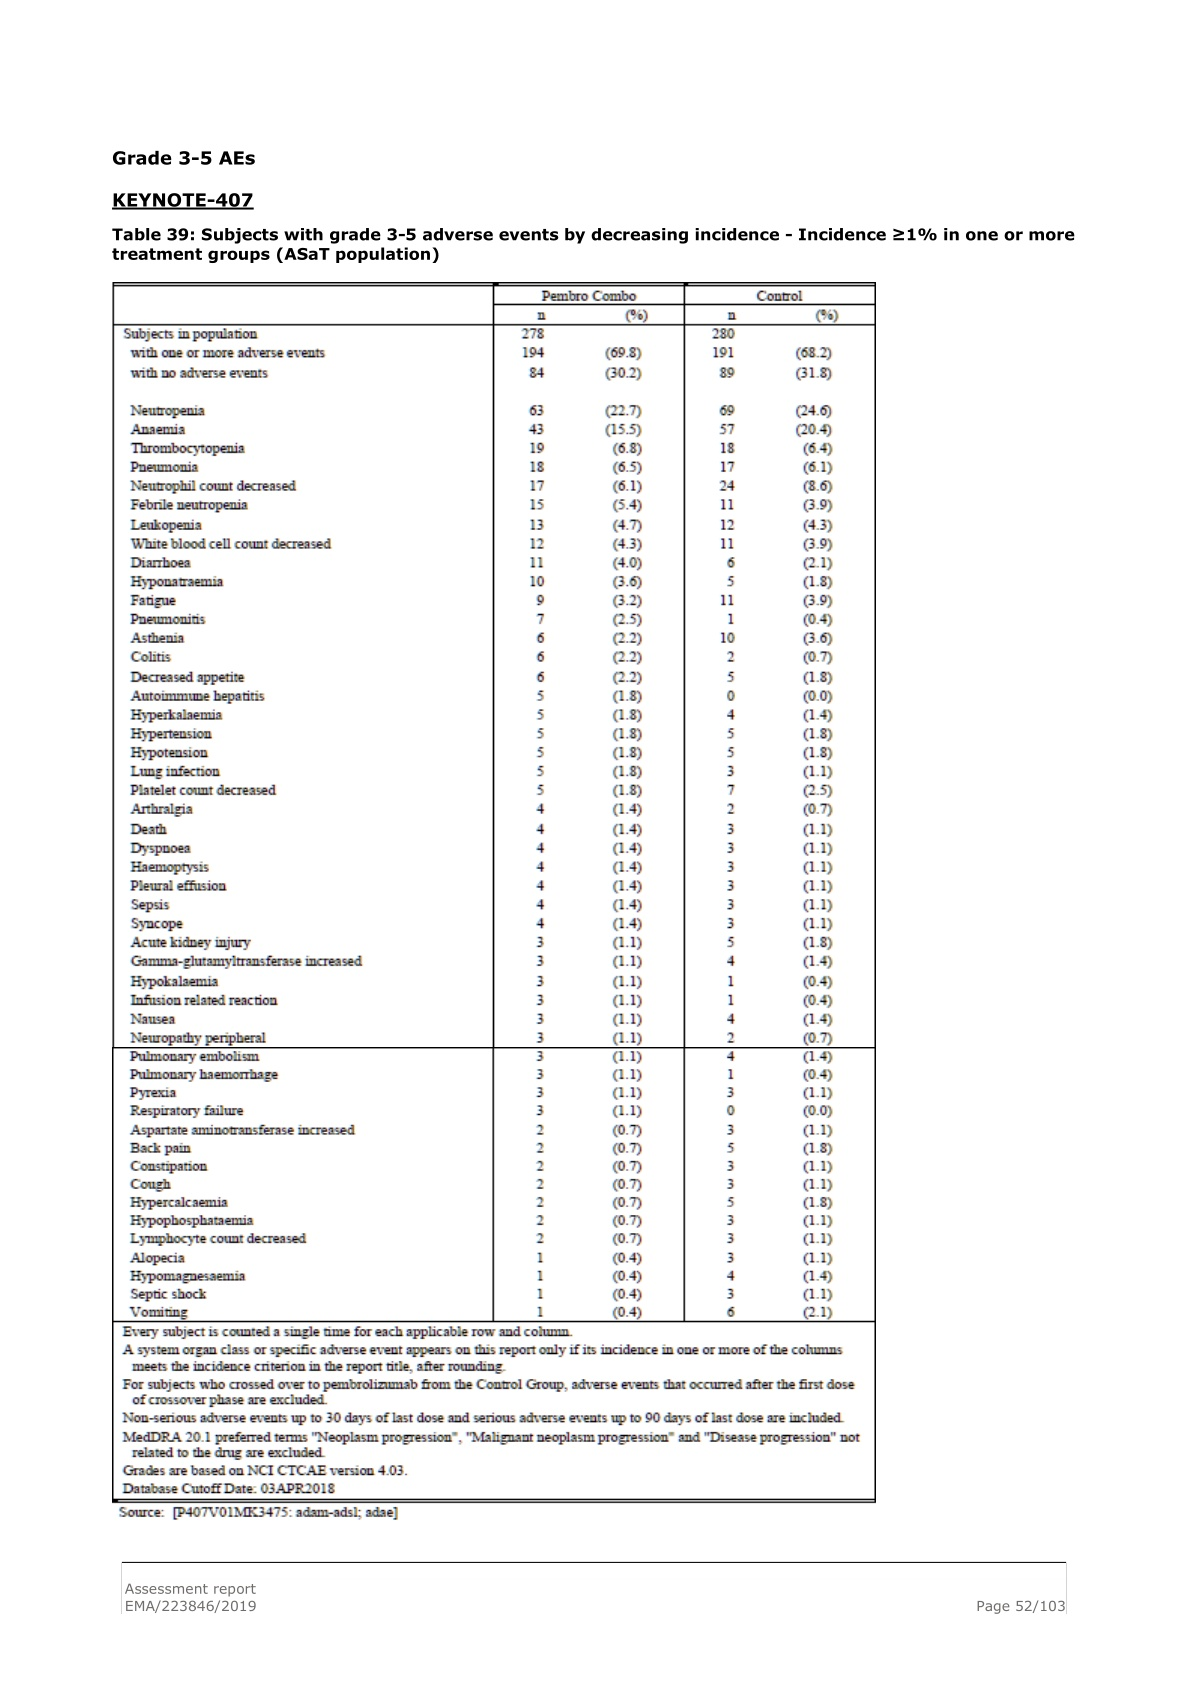partial_lined_merged_cells: (111, 281, 876, 1506)
